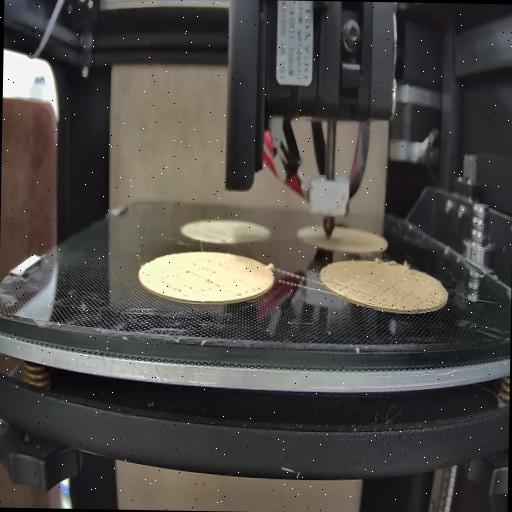under_extrusion: (158, 259, 224, 297), (382, 274, 434, 306), (330, 279, 366, 301), (238, 285, 264, 297)
